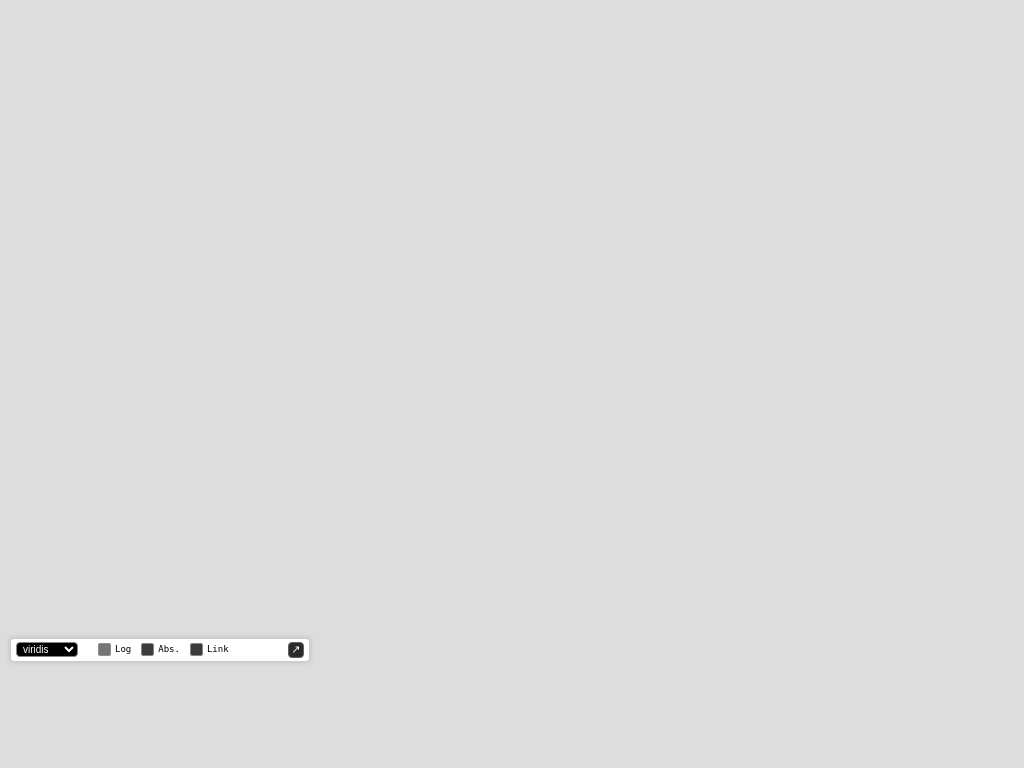
Test: dialog: edge cases › submitting without edits in linear scale dispatches nothing
This screenshot has width=1024, height=768.
Click the button with class "dialog-popout-btn" at (296, 650), box x1=288 y1=642 x2=304 y2=658
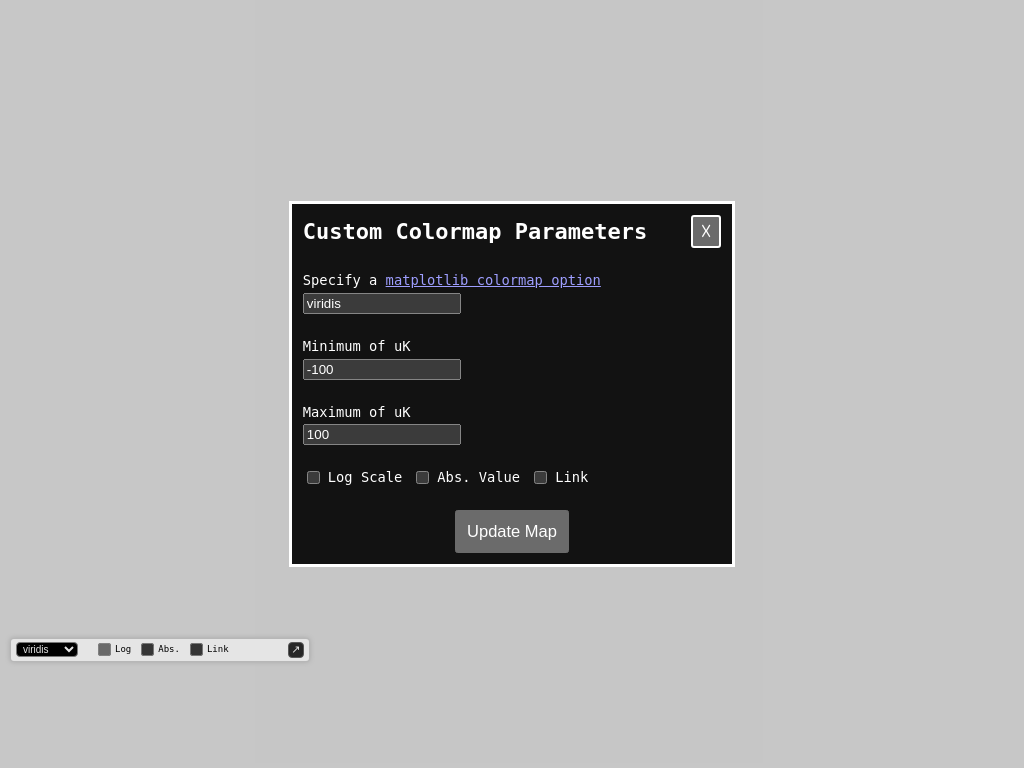
Click the submit button at (512, 531), box x1=455 y1=510 x2=569 y2=553
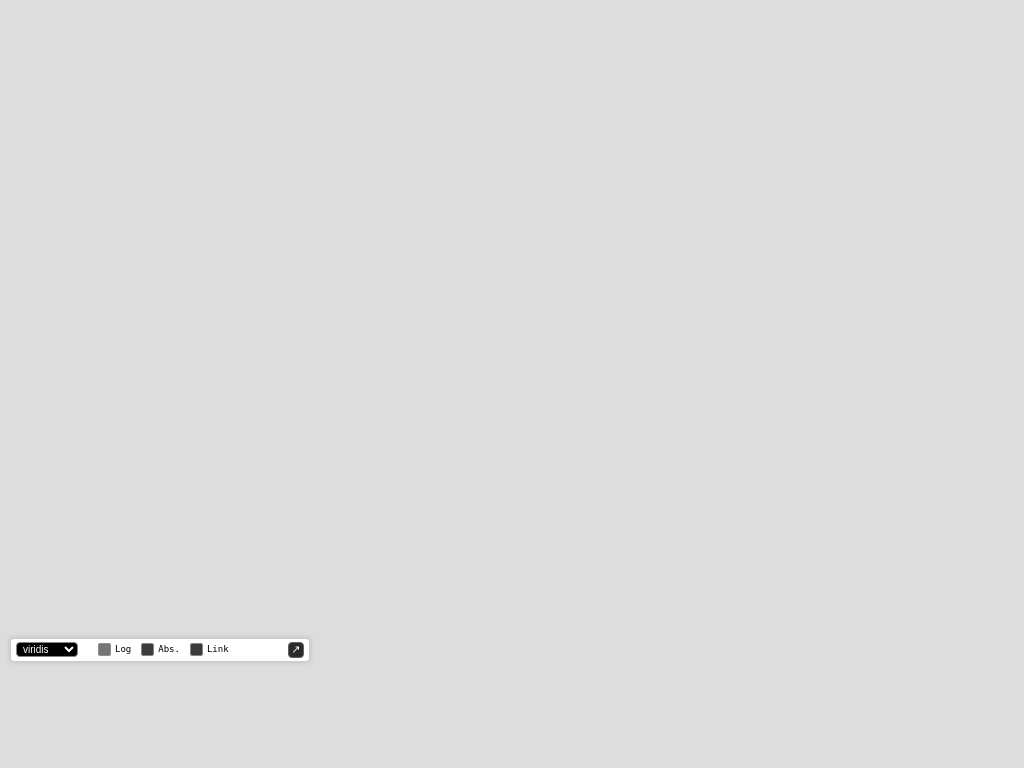
Expected: the dialog is gone
